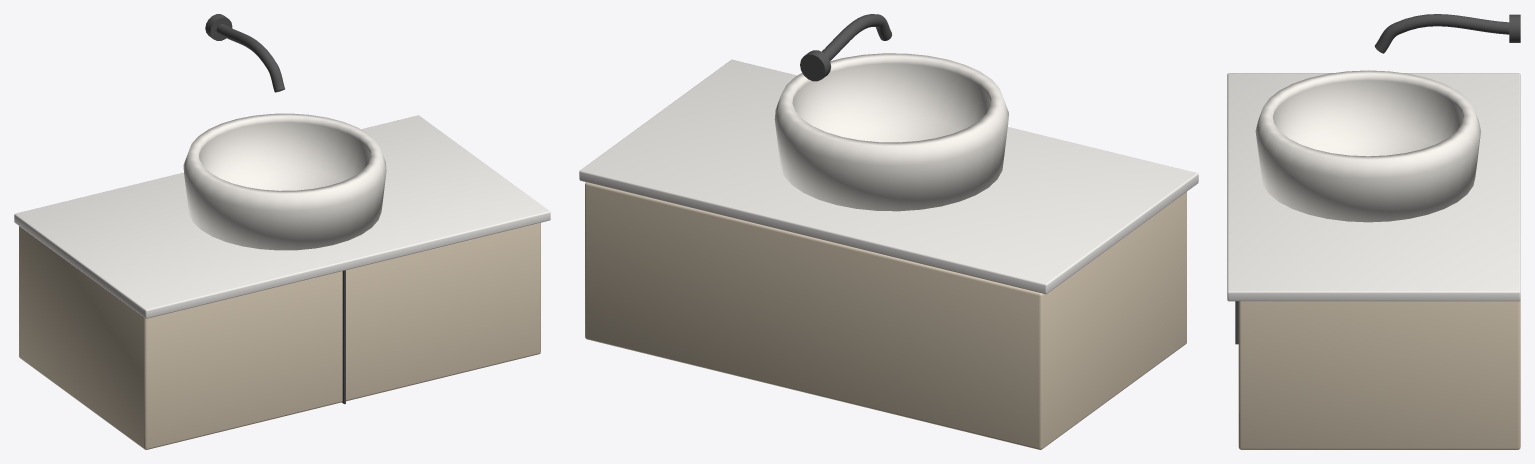
Rendered from mo_vanity.glb.
3 views of the same model, side by side, from view 1: azimuth 30°, elevation 25°; view 2: azimuth 150°, elevation 25°; view 3: azimuth 270°, elevation 25° (orthographic). The views are drawn at different scales.
Parts seen in each view (by area): view 1: body, top, basin, spout, gap1; view 2: body, top, basin, spout, mixer; view 3: body, top, basin, spout, mixer.
Part boxes in pixels (left/top/right/bottom): body: left=19, top=222, right=540, bottom=449; top: left=14, top=115, right=550, bottom=318; basin: left=183, top=113, right=386, bottom=250; spout: left=216, top=24, right=284, bottom=92; gap1: left=342, top=270, right=345, bottom=404; body: left=585, top=182, right=1186, bottom=449; top: left=579, top=59, right=1198, bottom=294; basin: left=774, top=53, right=1008, bottom=211; spout: left=807, top=14, right=891, bottom=73; mixer: left=800, top=50, right=831, bottom=81; body: left=1238, top=300, right=1520, bottom=449; top: left=1227, top=73, right=1520, bottom=301; basin: left=1255, top=70, right=1480, bottom=222; spout: left=1374, top=14, right=1509, bottom=53; mixer: left=1509, top=14, right=1520, bottom=42.
Size of the model in its own units: 0.92 by 0.6481 by 0.52.
